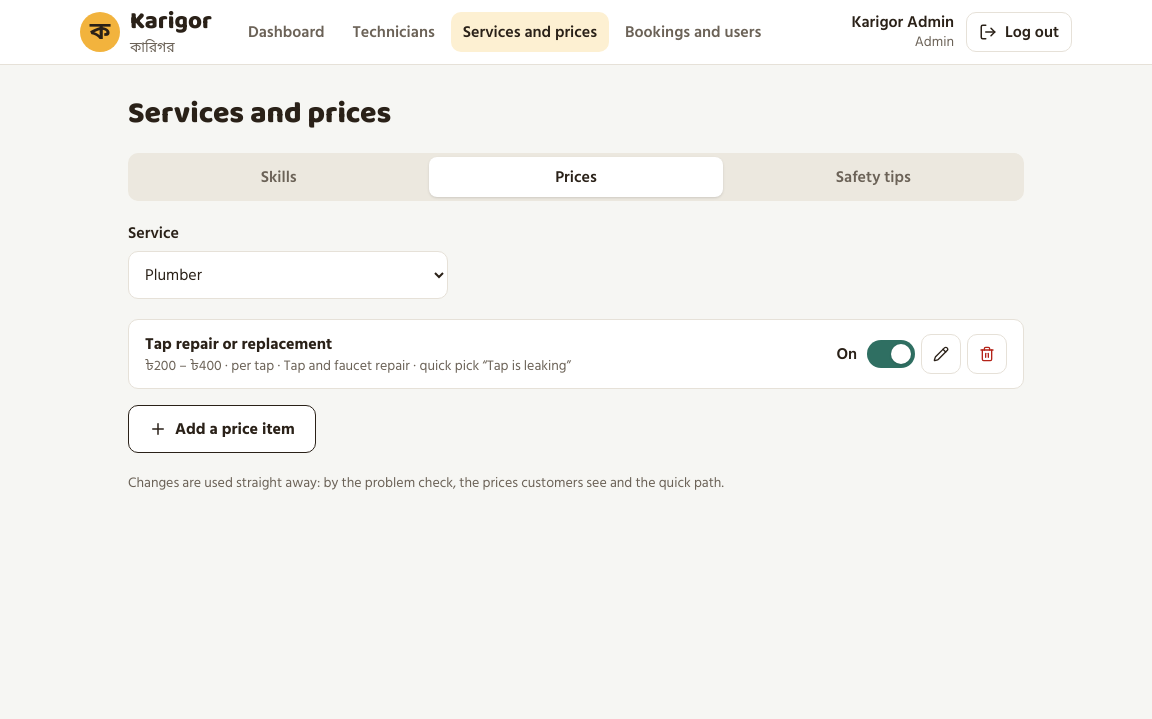
Test: Admin catalog › lists the price items of the chosen service and adds one
Expected: the text "Tap repair or replacement" is shown, [145,331,332,357]
Expected: the text "৳200 – ৳400 · per tap" is shown, [145,356,571,376]
Step 1. Click the button "Add a price item" → (222, 429), box [128,405,316,453]
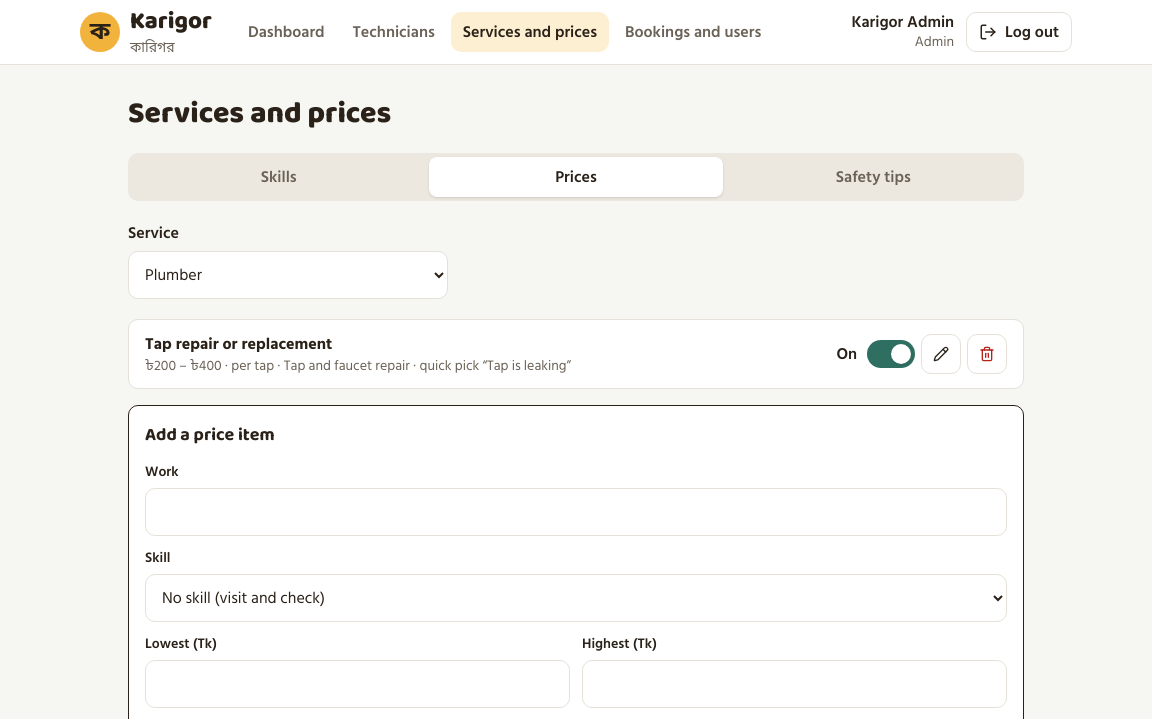
Step 2. Type "Water pump repair" into the field labelled "Work" → (576, 512), box [145,488,1007,536]
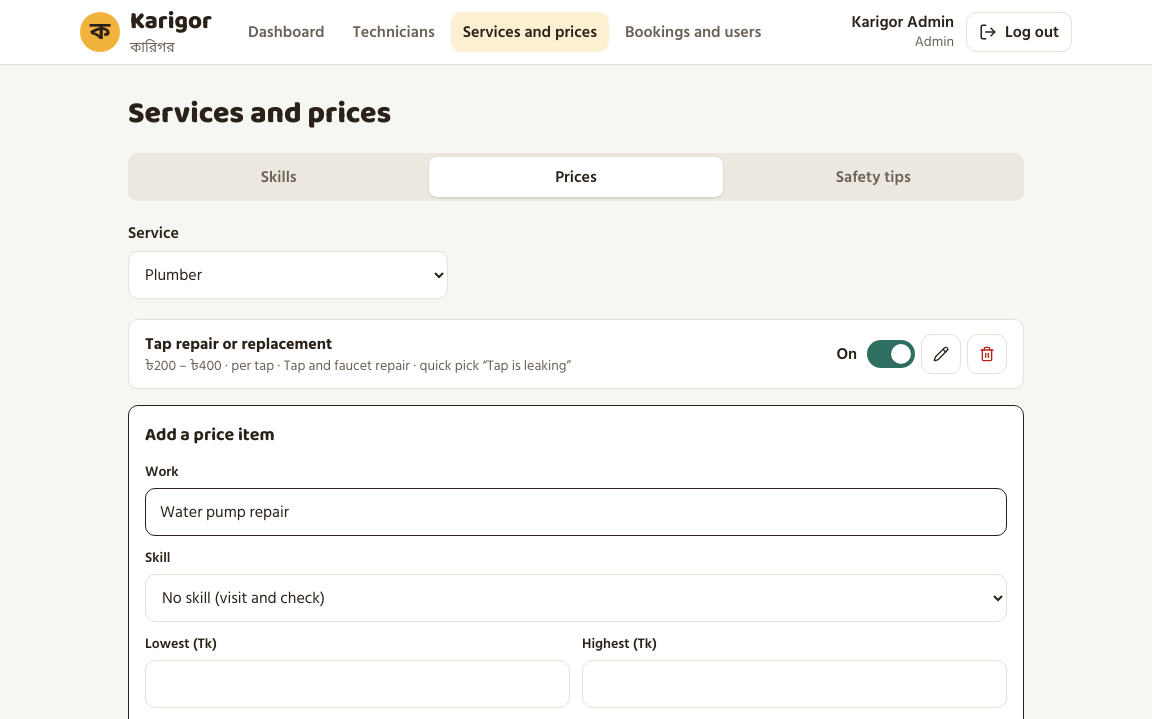
Step 3. Type "600" into the field labelled "Lowest (Tk)" → (358, 684), box [145,660,570,708]
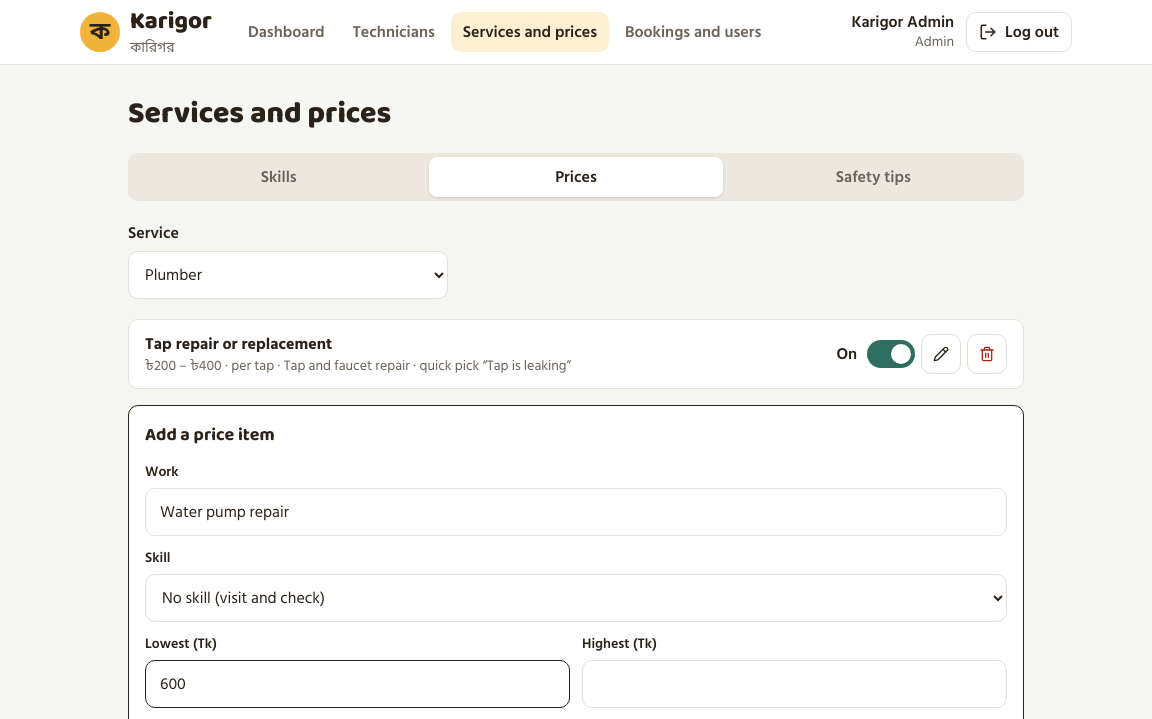
Step 4. Type "1200" into the field labelled "Highest (Tk)" → (794, 684), box [582,660,1007,708]
(page scrolled)
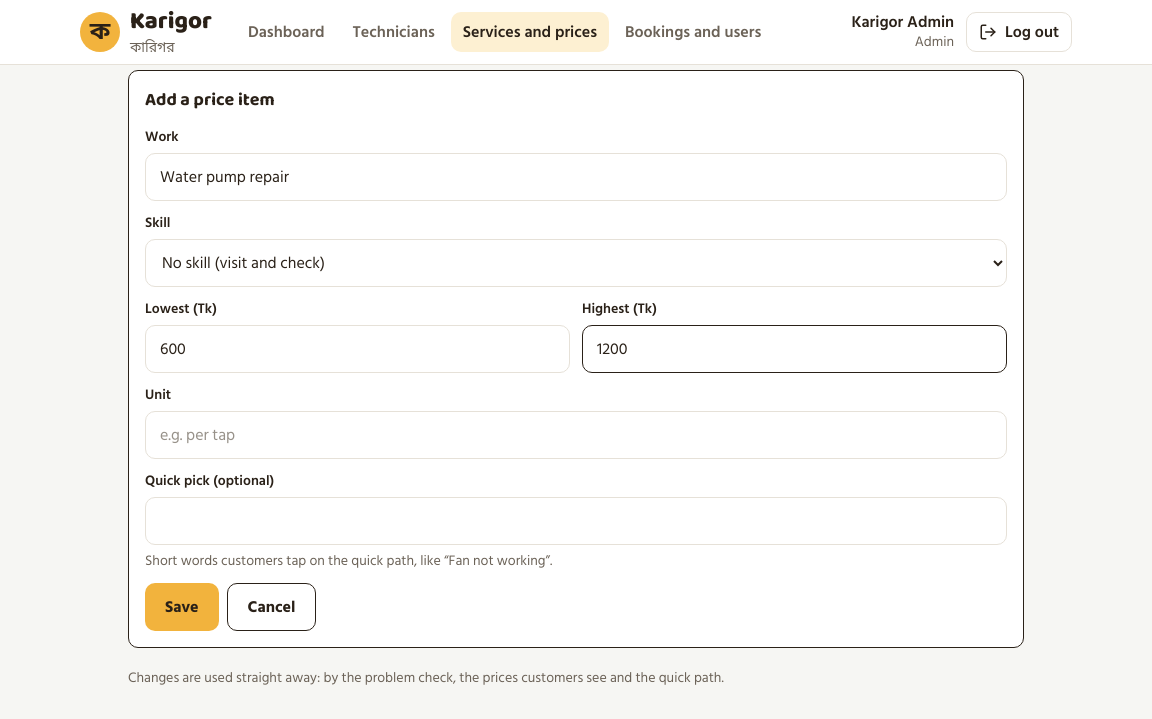
Step 5. Type "per motor" into the field labelled "Unit" → (576, 435), box [145,411,1007,459]
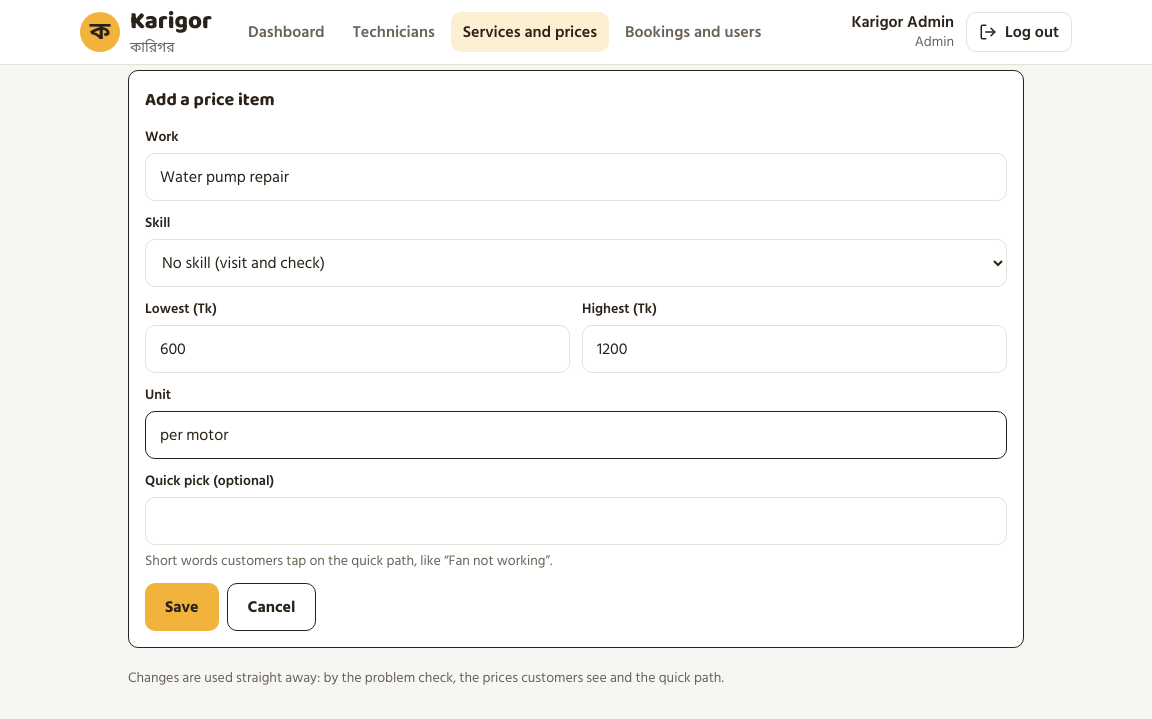
Step 6. Click the button "Save" → (182, 607), box [145,583,219,631]
(page scrolled)
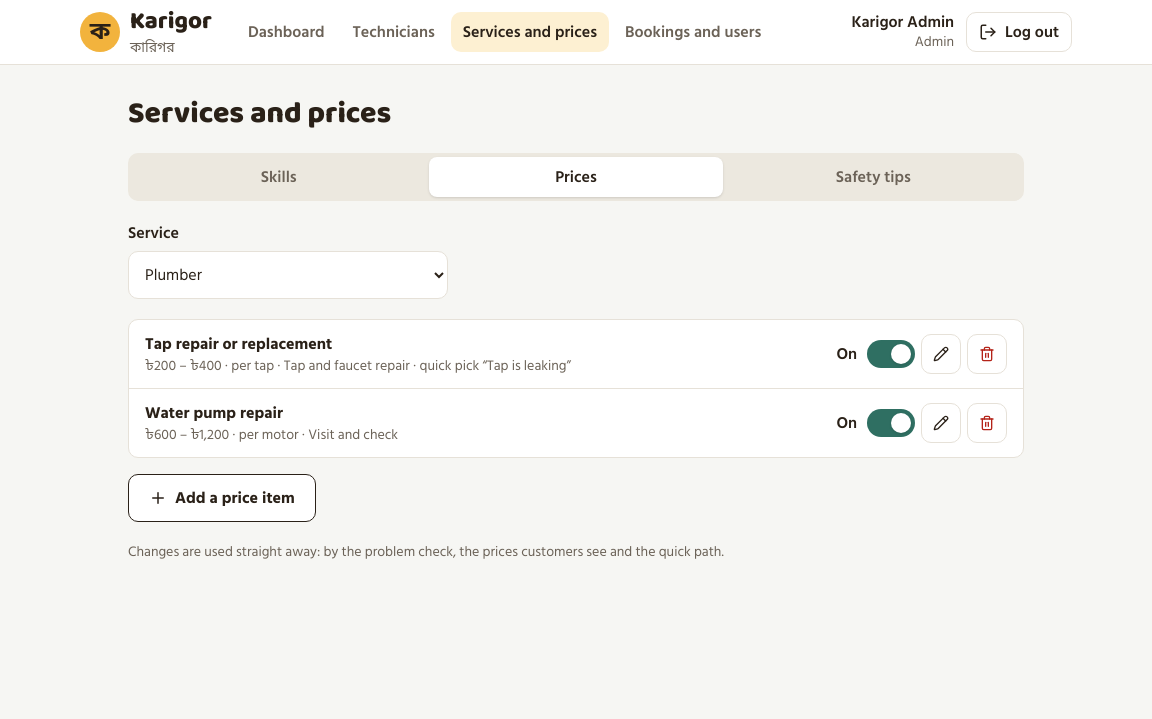
Expected: the text "Water pump repair" is shown, [145,400,283,426]
